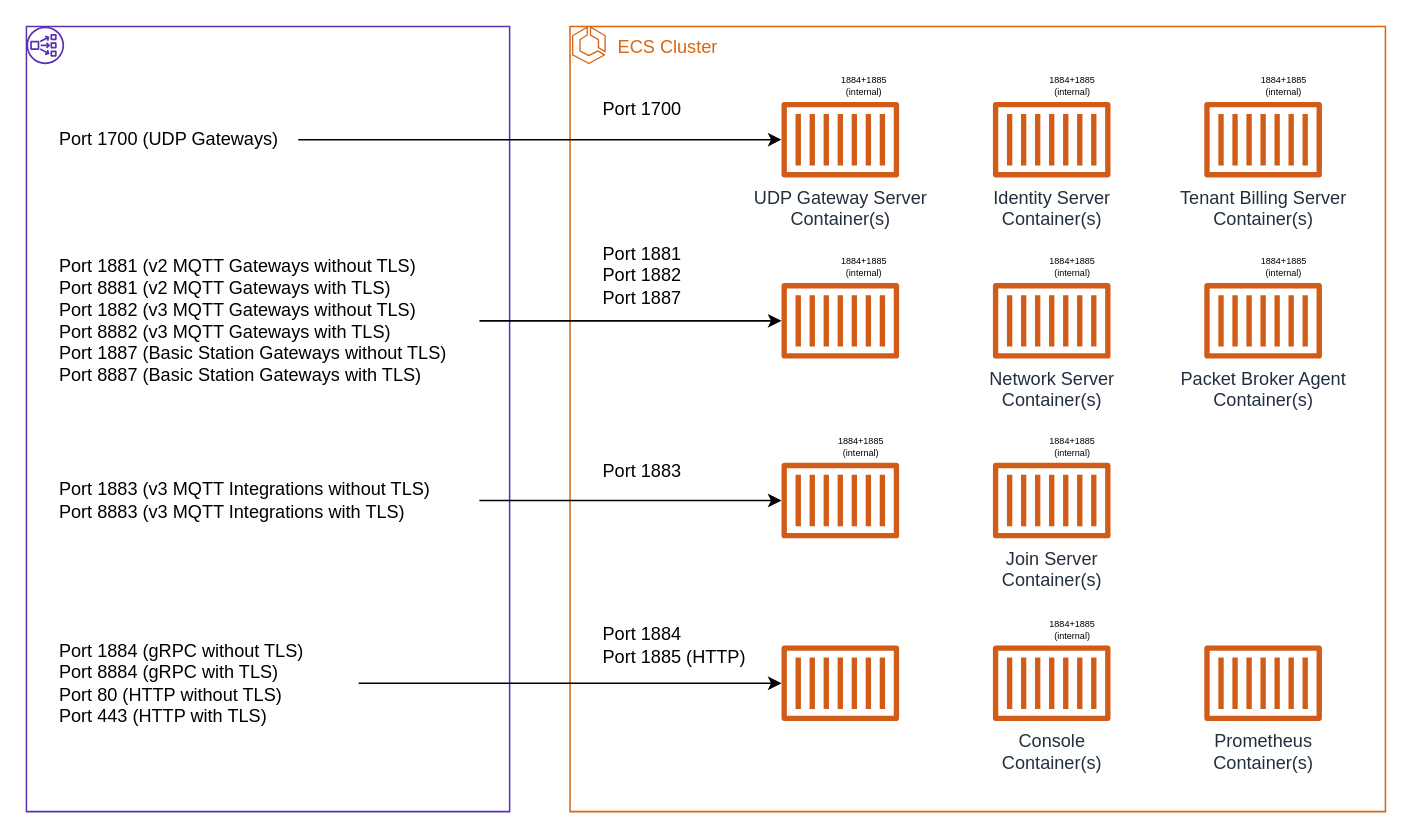
The diagram is 1412 pixels wide and 838 high, and some of its shapes have lost their labels. Here are the shapes that lost their labels. From the top down, the box of each, then its label:
(781, 282, 898, 358): Gateway Server Container(s)
(25, 25, 510, 812): Network Load Balancer
(781, 462, 898, 538): Application Server Container(s)
(781, 645, 898, 720): HTTP Proxy Container(s)
